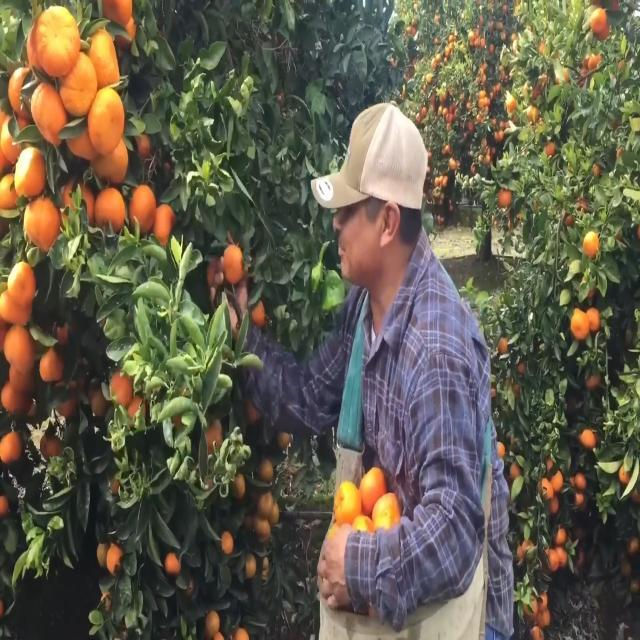Jeruk Sudah Matang: (32, 6, 78, 78), (89, 83, 126, 155), (28, 81, 69, 143), (10, 145, 48, 199), (94, 186, 128, 233), (129, 182, 156, 236), (8, 260, 38, 306), (109, 364, 135, 412), (153, 202, 177, 253), (39, 341, 67, 384), (223, 244, 245, 284), (567, 309, 591, 344), (584, 302, 602, 335), (202, 611, 222, 640), (589, 5, 609, 34), (583, 227, 600, 261), (164, 551, 185, 578), (580, 425, 596, 453), (220, 528, 234, 557), (550, 467, 566, 492), (553, 524, 569, 548), (499, 182, 513, 208), (574, 472, 588, 491), (500, 334, 510, 358)
